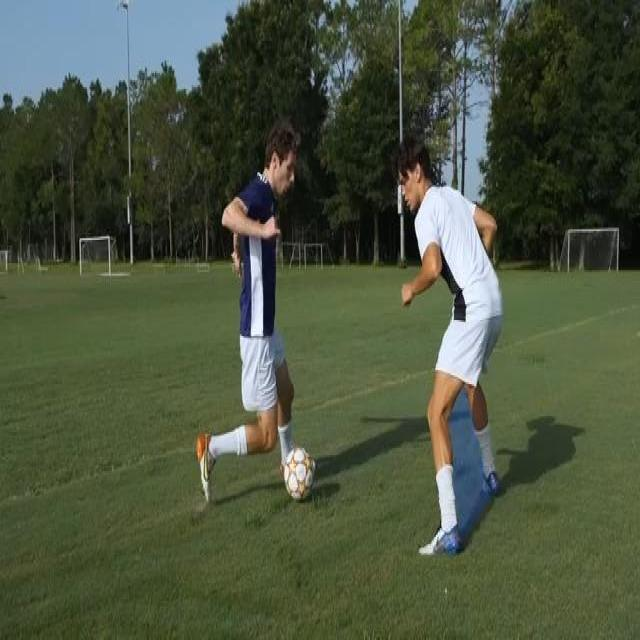Soccer Ball: (284, 446, 315, 500)
